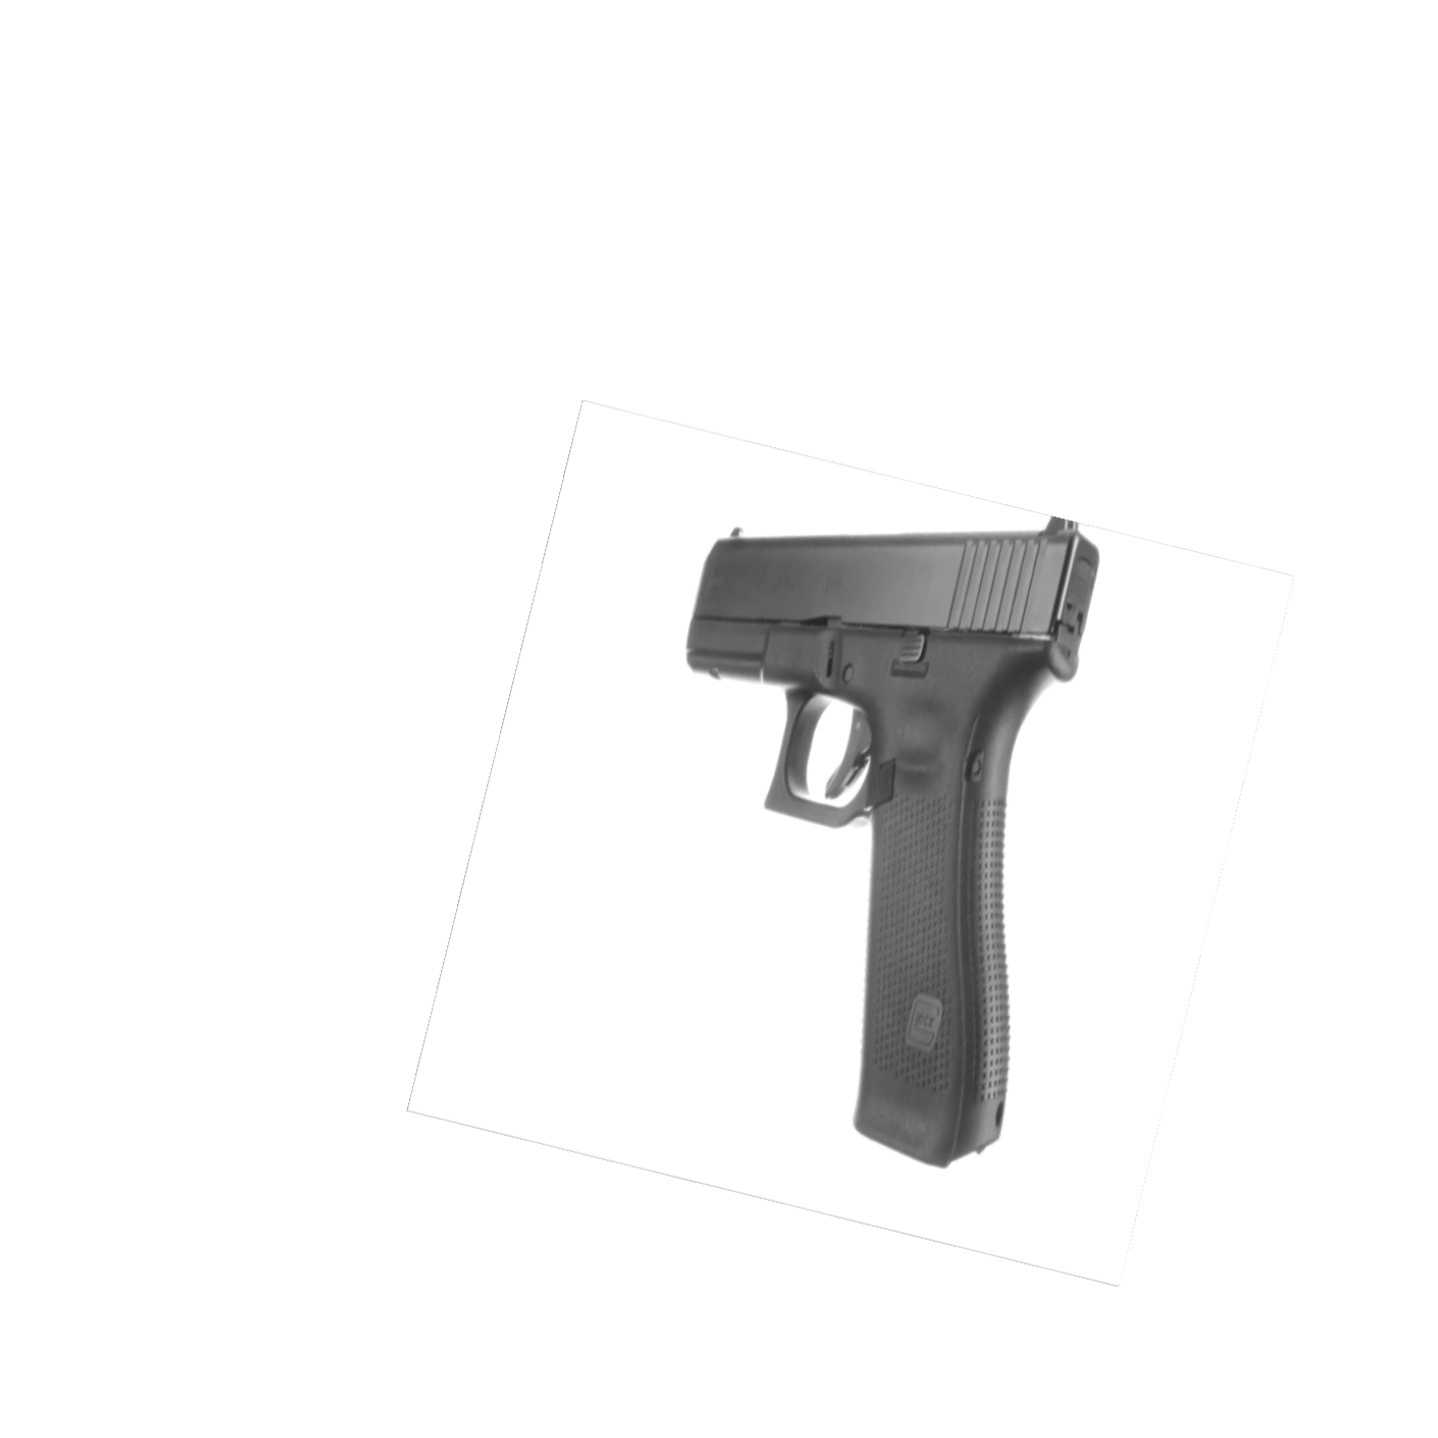gun: (677, 508, 1111, 1176)
